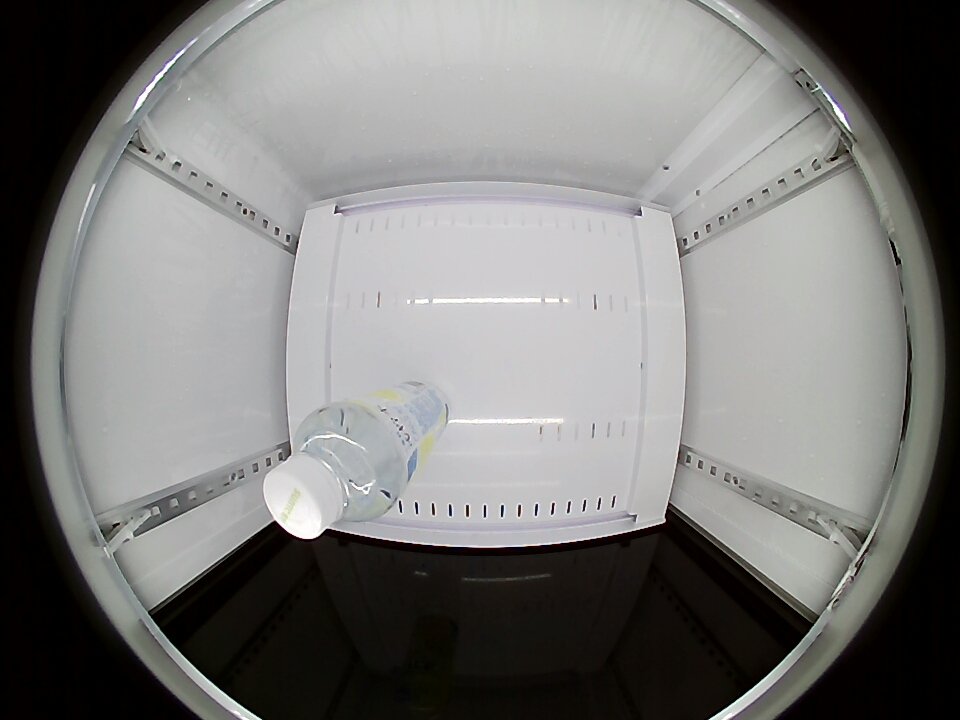qinningshui: (264, 406, 405, 540)
